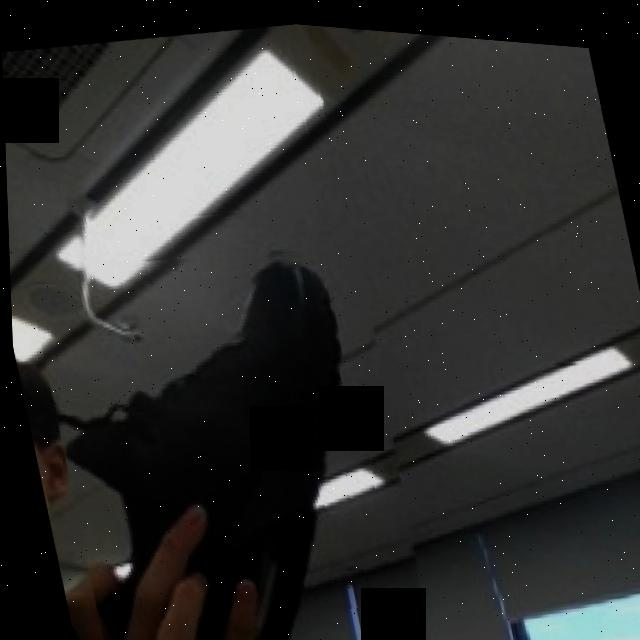shoe: (21, 208, 442, 640)
